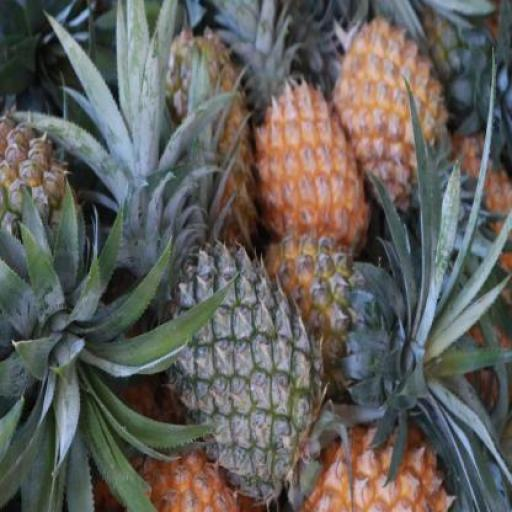------------------------------: (0, 114, 84, 341)
Pineapple - v8 v1: (331, 19, 444, 226), (252, 78, 367, 260)
